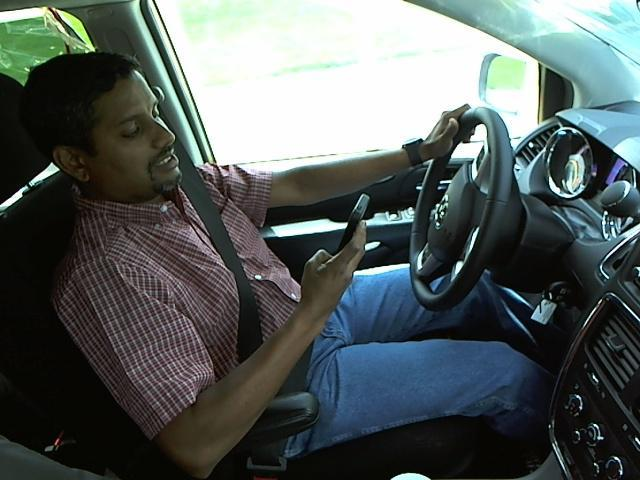PhoneUse: (332, 186, 381, 271)
